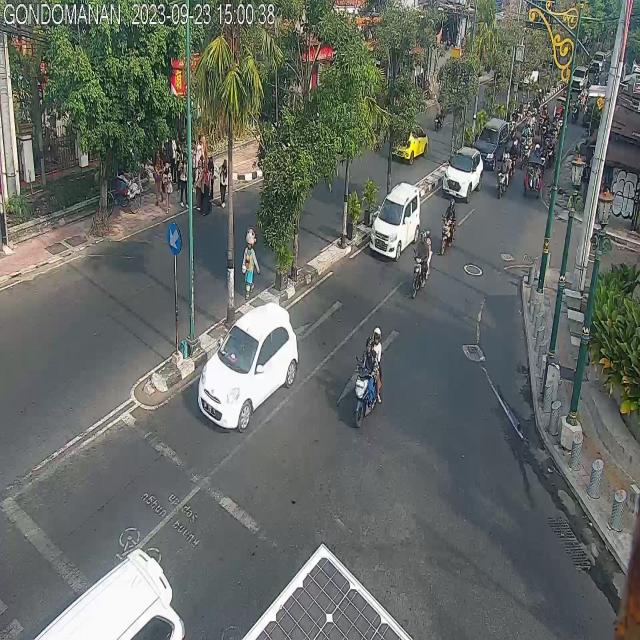car: (26, 539, 187, 640), (195, 305, 298, 433), (368, 175, 421, 256), (446, 150, 484, 200), (472, 120, 509, 164), (391, 123, 428, 166)
motorcycle: (354, 324, 382, 426), (413, 225, 432, 303), (440, 197, 457, 259), (494, 154, 510, 200), (434, 96, 444, 131)
